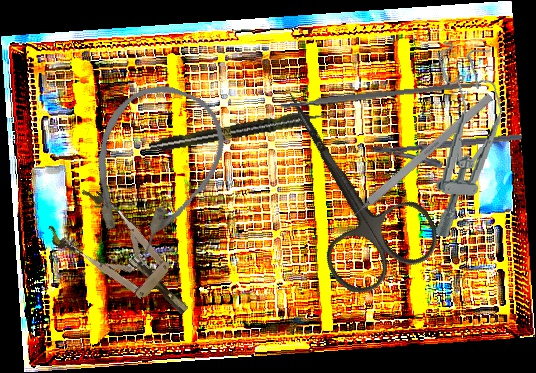Cannula: (66, 69, 239, 268)
Handpiece: (147, 107, 331, 155)
Hook Surgical: (338, 93, 494, 230)
Iris Scissors: (242, 62, 448, 305)
Needle Holder: (371, 133, 524, 174)
Scalpel Handle: (280, 79, 481, 110)
Speculum: (42, 181, 208, 339), (420, 40, 509, 241)
